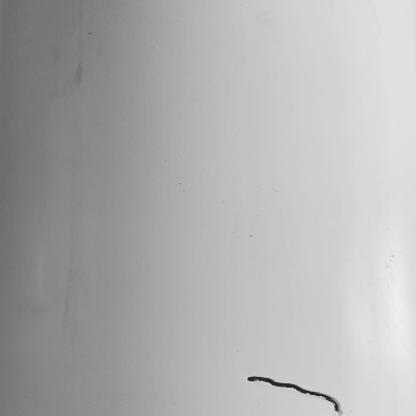fengxi: (245, 375, 343, 416)
